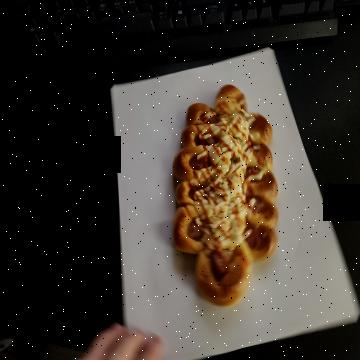pizza_bread: (175, 85, 279, 306)
